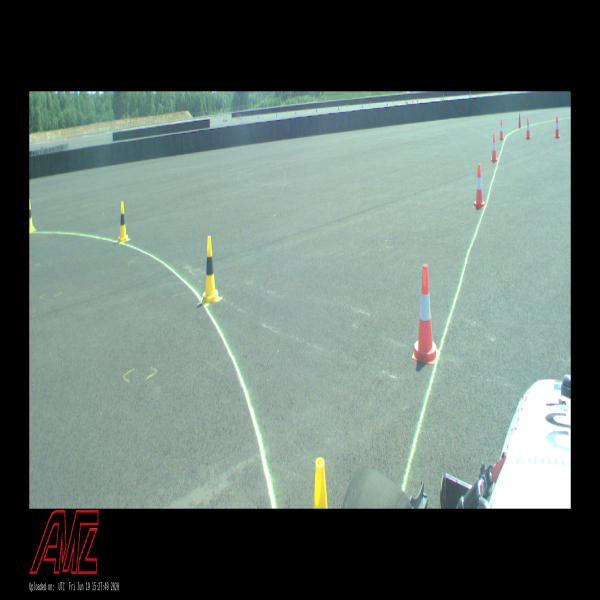orange_cone: (412, 264, 438, 364), (474, 164, 484, 208), (490, 134, 498, 162), (554, 116, 560, 138), (499, 120, 504, 140), (526, 118, 530, 139)
yellow_cone: (202, 236, 220, 305), (314, 457, 328, 509), (118, 201, 131, 242), (30, 199, 36, 231)
